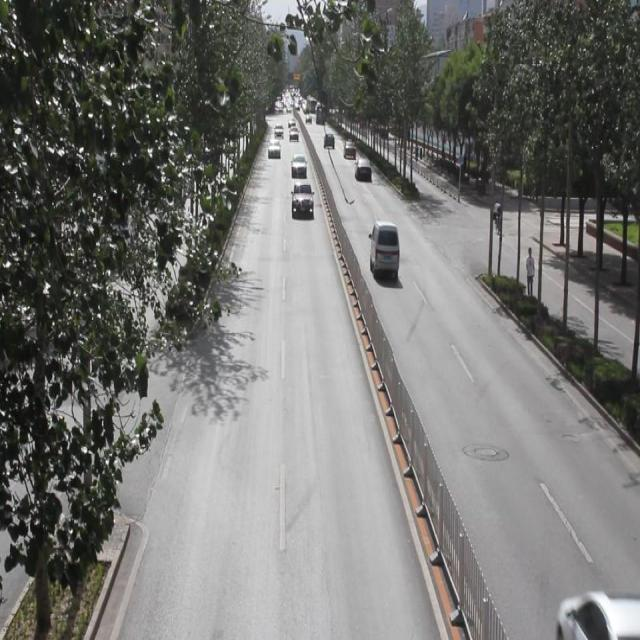car: (292, 183, 314, 219), (291, 153, 307, 181), (354, 158, 372, 182), (268, 138, 281, 162), (343, 140, 356, 161), (323, 131, 335, 151), (288, 127, 299, 143), (274, 124, 284, 140)
truck: (368, 222, 399, 280)
